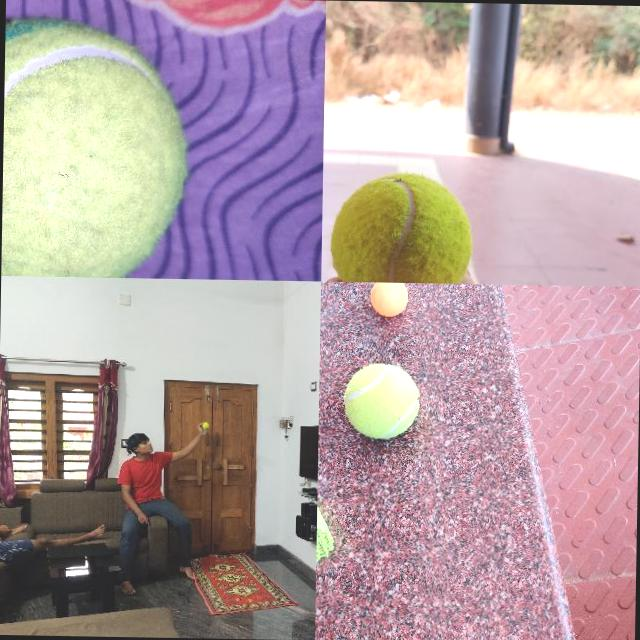Tennis Ball: (2, 14, 190, 278), (329, 172, 474, 282), (343, 362, 419, 438), (202, 422, 209, 429)
